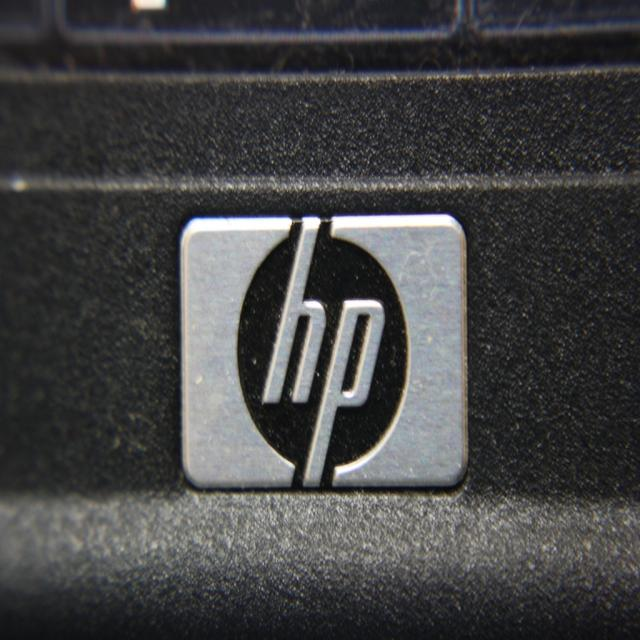HP: (181, 214, 466, 493)
